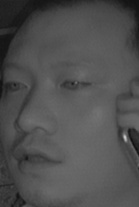eye: (58, 74, 93, 95), (2, 76, 31, 94)
mouth: (13, 140, 64, 174)
